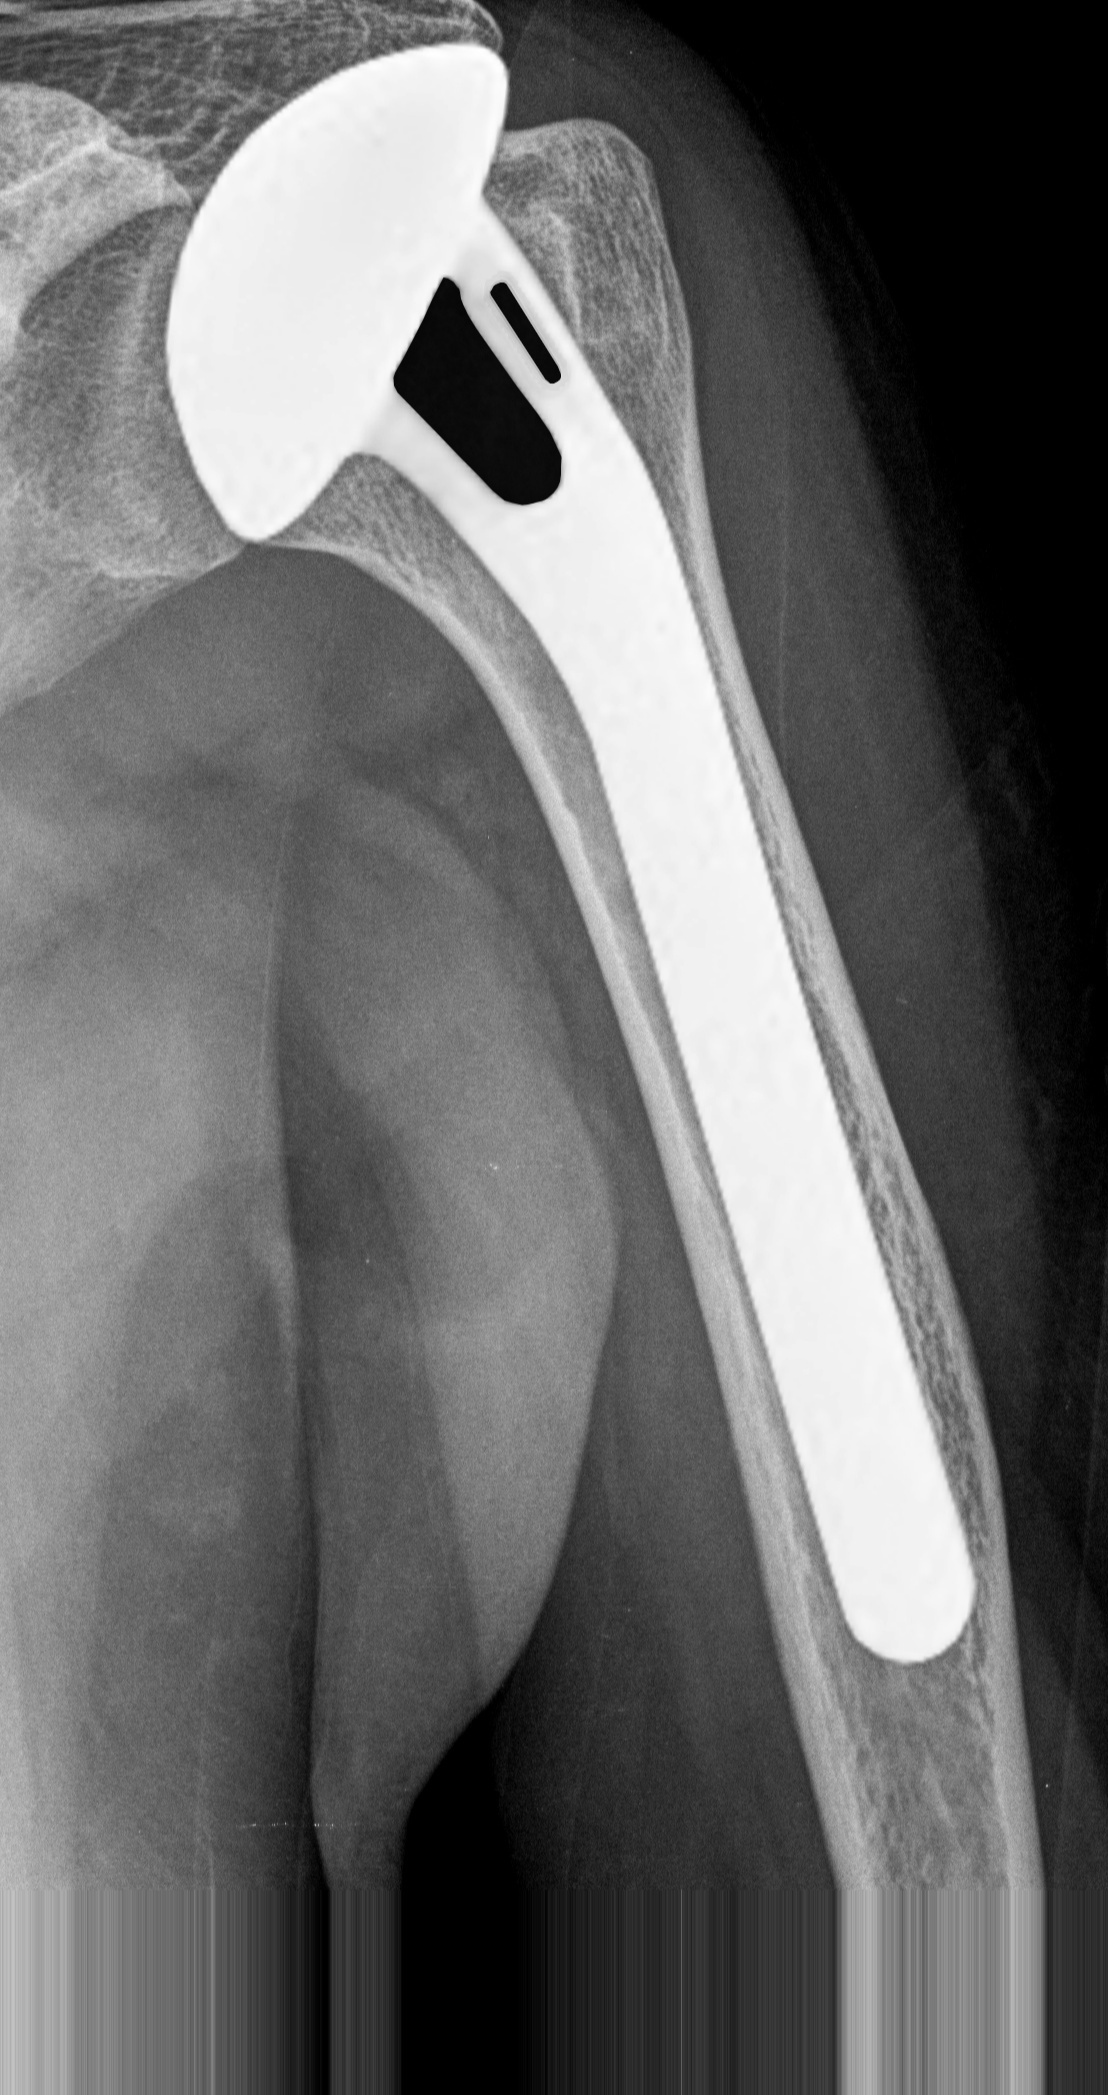Shoulder - AequalisFracture - Tornier: (143, 30, 602, 571)
